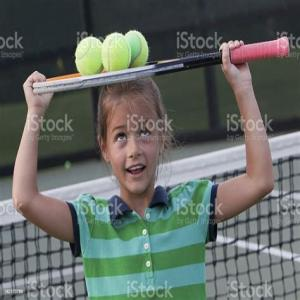Tennis: (101, 31, 131, 75), (75, 37, 105, 75), (124, 27, 148, 69)
